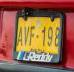1: (41, 26, 47, 47)
8: (54, 27, 60, 47)
9: (47, 26, 53, 47)
A: (17, 26, 23, 46)
F: (29, 26, 35, 46)
V: (24, 26, 30, 46)
